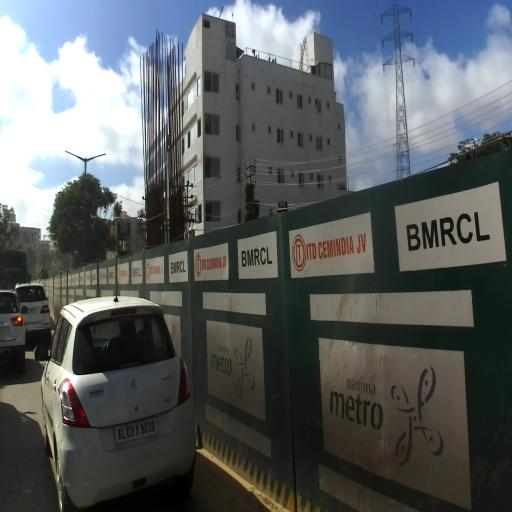street_light_0: (65, 151, 87, 164), (84, 153, 106, 166), (42, 232, 56, 238)
